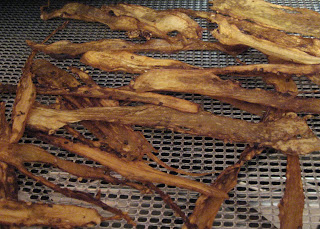bacon: (128, 45, 303, 157)
